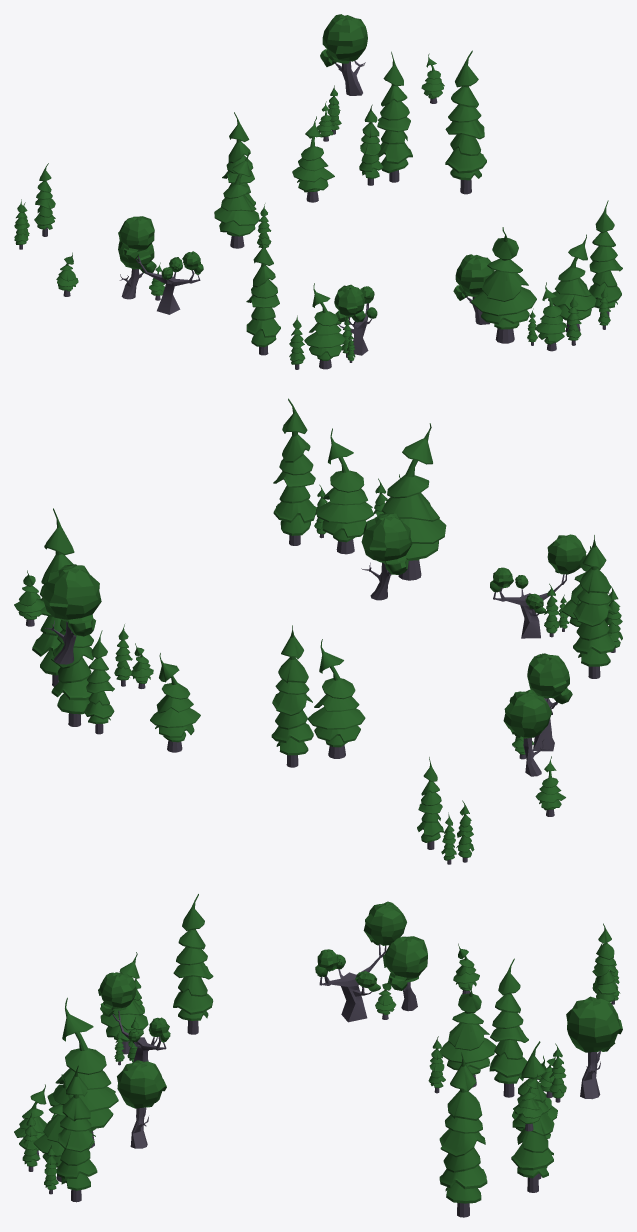
Rendered from level_one_assets_trees.fbx.
3 renders of one model, top to bottom at view 1: azimuth 30°, elevation 25°; view 2: azimuth 150°, elevation 25°; view 3: azimuth 270°, elevation 25°, orthographic. The views are drawn at different scales.
Visible parts, largest first — view 1: trees; view 2: trees; view 3: trees.
Part boxes in pixels (<box>): trees: <box>14,14,622,369</box>; trees: <box>14,398,622,864</box>; trees: <box>14,894,622,1217</box>.
Bounding box in the file's own units: 1820 × 648 × 1916.
